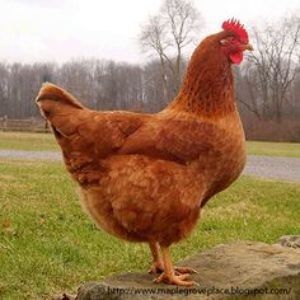hen: (35, 19, 286, 289)
